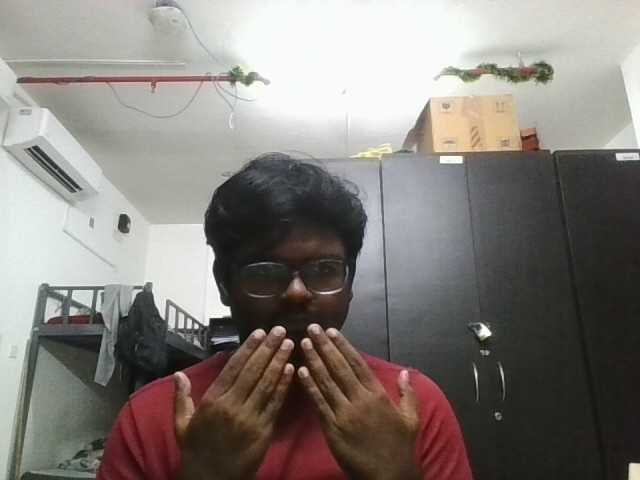Thanks: (159, 311, 433, 479)
